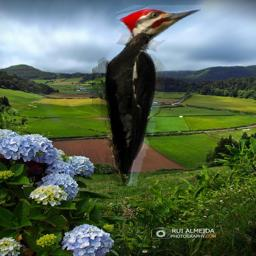Woodpecker: (92, 5, 207, 186)
